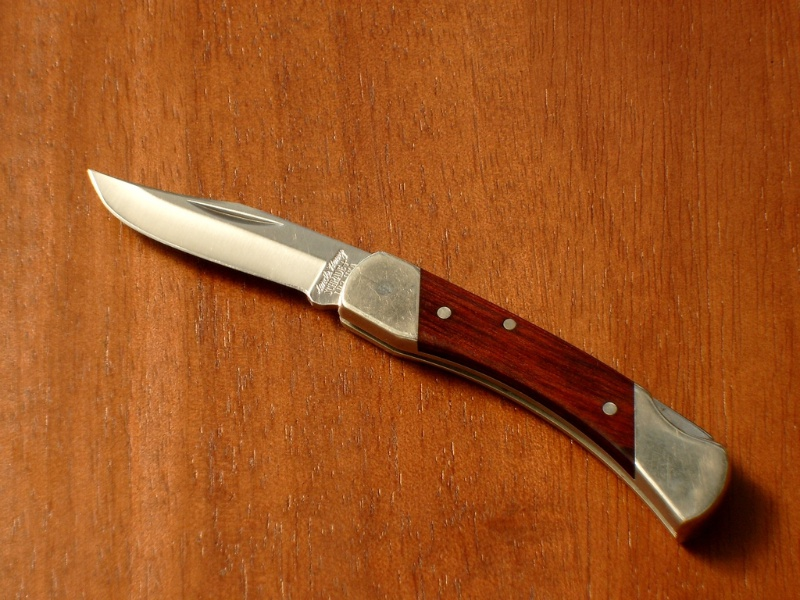knife: (87, 169, 731, 543)
